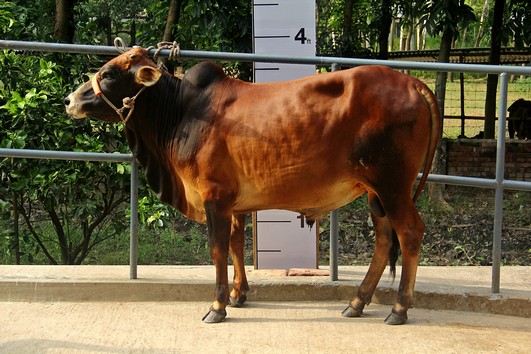cow: (60, 42, 439, 326)
